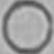no answer: (2, 0, 52, 54)
